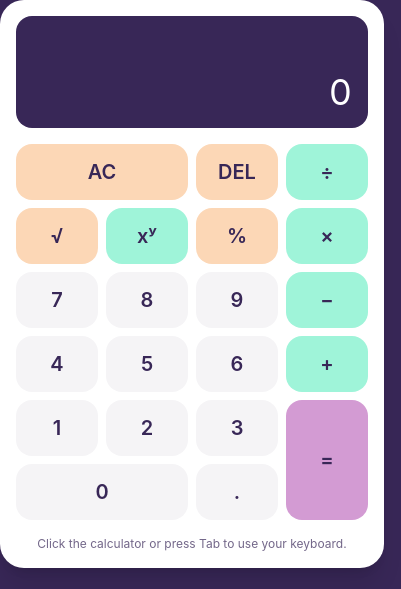
Scenario: Calculator › shows a backend error and clears it on the next digit
The image size is (401, 589).
Click the button "5": x=147, y=364 [106,336,188,392]
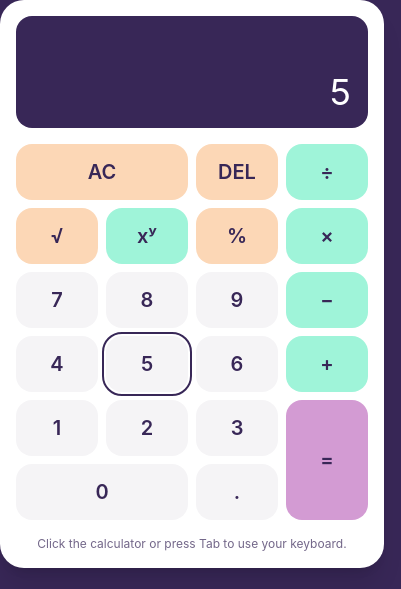
Click the button named "Divide": x=327, y=172 [286,144,368,200]
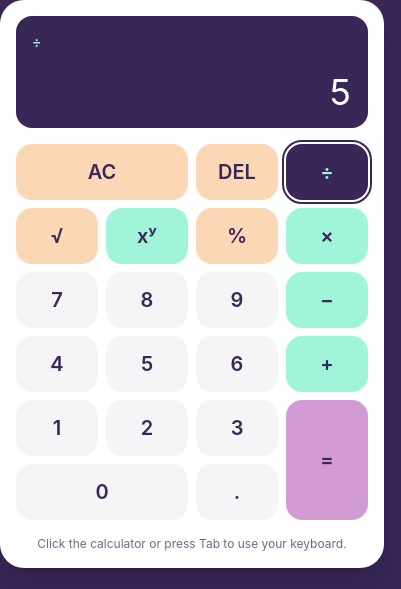
Click the button "0": x=102, y=492 [16,464,188,520]
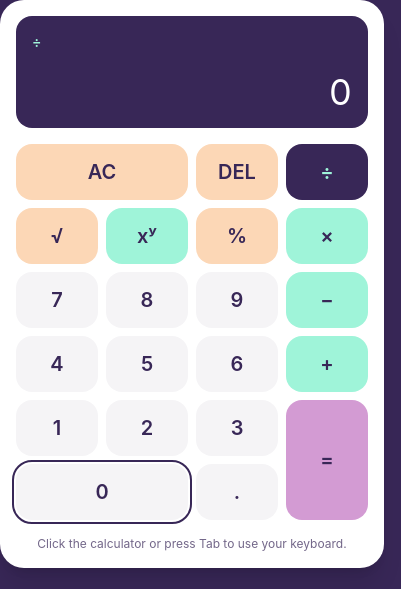
Click the button named "Equals": x=327, y=460 [286,400,368,520]
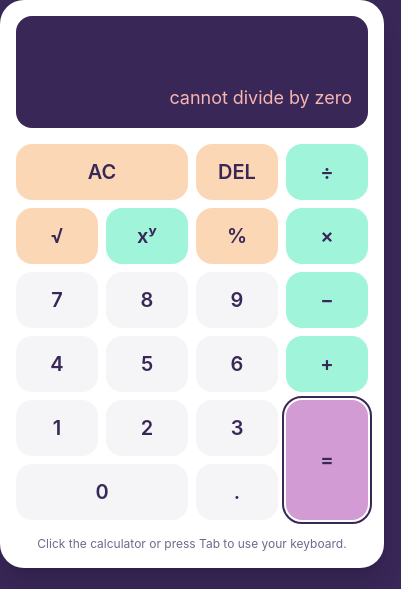
expect the text "cannot divide by zero" is shown: met, box [169,87,352,108]
Click the button "7": x=57, y=300 [16,272,98,328]
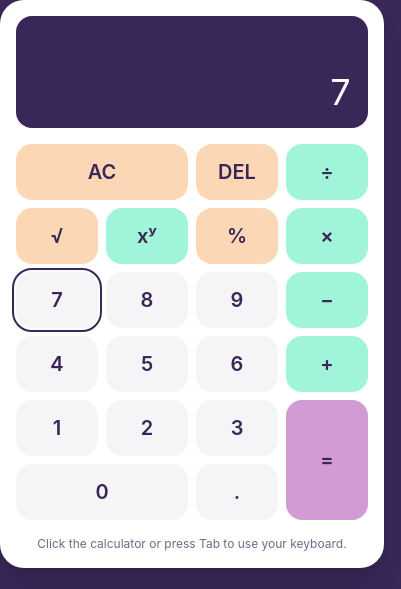
expect the text "7" is shown: met, box [329,70,352,114]
